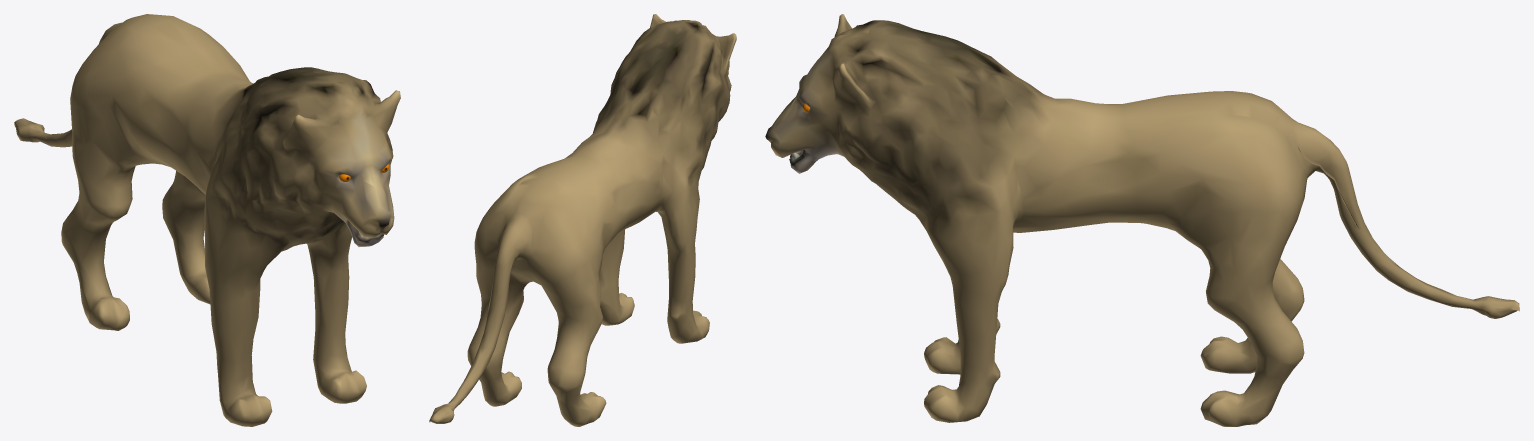
The picture shows the model from 3 angles, left to right: view 1: azimuth 30°, elevation 25°; view 2: azimuth 150°, elevation 25°; view 3: azimuth 270°, elevation 25°; orthographic projection. The views are drawn at different scales.
Visible parts, largest first — view 1: Lowpoly; view 2: Lowpoly; view 3: Lowpoly.
Boxes of the visible parts, x1,y1,x2,y2 form: Lowpoly: (14,14,400,426); Lowpoly: (429,14,736,426); Lowpoly: (765,14,1519,426).
Size of the model in its own units: 384 by 903 by 1676.
